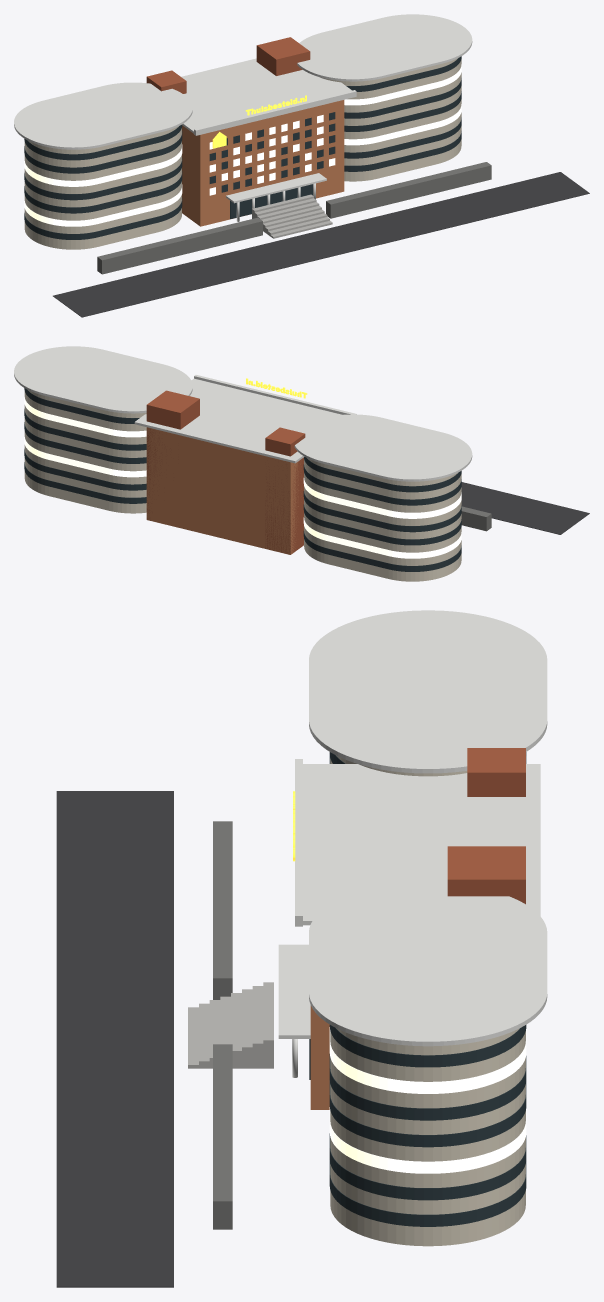
Rendered from lm_thuisbesteld.glb.
3 views of the same model, one above another, from view 1: azimuth 30°, elevation 25°; view 2: azimuth 150°, elevation 25°; view 3: azimuth 270°, elevation 25° (orthographic). The views are drawn at different scales.
Visible parts, largest first — view 1: street, centre, wing-1, wing-1_roof, wing1_roof, wing1, roof, gabion1, gabion-1, centre_win, tower, roof_lip (+17 smaller); view 2: centre, wing-1, wing-1_roof, wing1_roof, wing1, roof, street, tower2, tower, wing-1_win1, wing-1_win4, wing-1_win5 (+13 smaller); view 3: street, wing1_roof, wing-1_roof, roof, wing1, tower, gabion1, gabion-1, canopy_low, tower2, wing1_win0, wing1_win1 (+10 smaller).
Boxes of the visible parts, x1,y1,x2,y2 form: street: (53,172,589,317); centre: (182,100,344,226); wing-1: (24,126,181,249); wing-1_roof: (14,82,192,149); wing1_roof: (297,14,472,81); wing1: (320,58,461,181); roof: (181,58,351,134); gabion1: (326,162,491,218); gabion-1: (97,217,262,274); centre_win: (209,112,335,195); tower: (256,37,310,75); roof_lip: (194,90,356,135); centre: (146,427,301,554); wing-1: (304,458,461,581); wing-1_roof: (294,414,472,481); wing1_roof: (14,346,192,413); wing1: (24,390,146,513); roof: (134,378,342,463); street: (461,482,589,534); tower2: (265,427,305,554); tower: (146,390,199,518); wing-1_win1: (303,517,461,558); wing-1_win4: (303,478,461,518); wing-1_win5: (303,464,461,505); street: (56,791,173,1287); wing1_roof: (309,883,547,1046); wing-1_roof: (309,610,547,773); roof: (296,764,540,925); wing1: (330,1028,525,1246); tower: (447,846,525,904); gabion1: (213,1044,232,1229); gabion-1: (213,821,232,999); canopy_low: (278,944,310,1038); tower2: (467,748,525,796); wing1_win0: (329,1160,526,1226); wing1_win1: (329,1133,526,1200).
Bounding box in the file's own units: 120 × 26 × 50.2.
